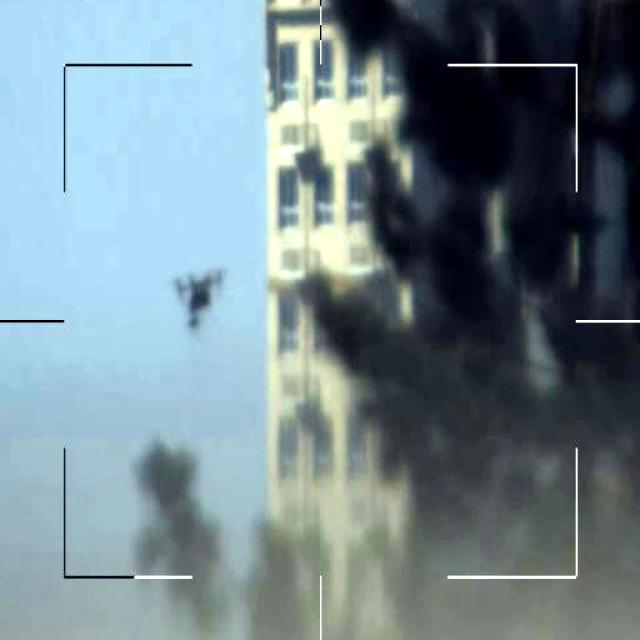bird: (165, 261, 231, 332)
